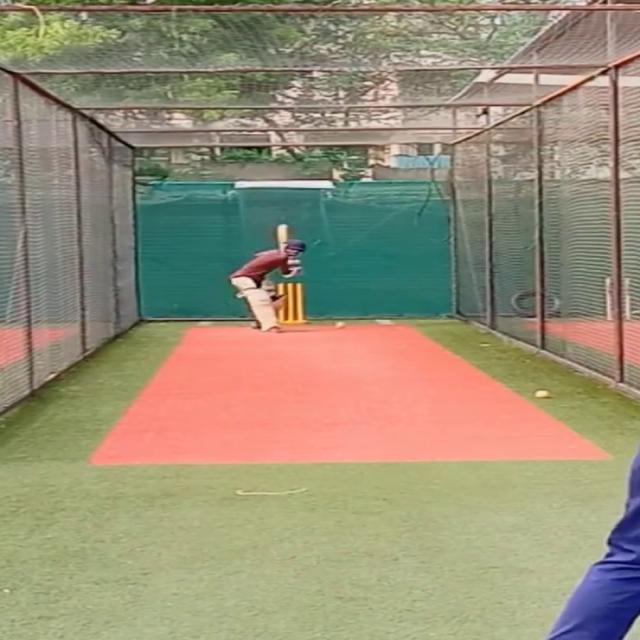ball: (532, 386, 552, 399), (329, 318, 348, 331)
stump: (278, 281, 307, 325)
